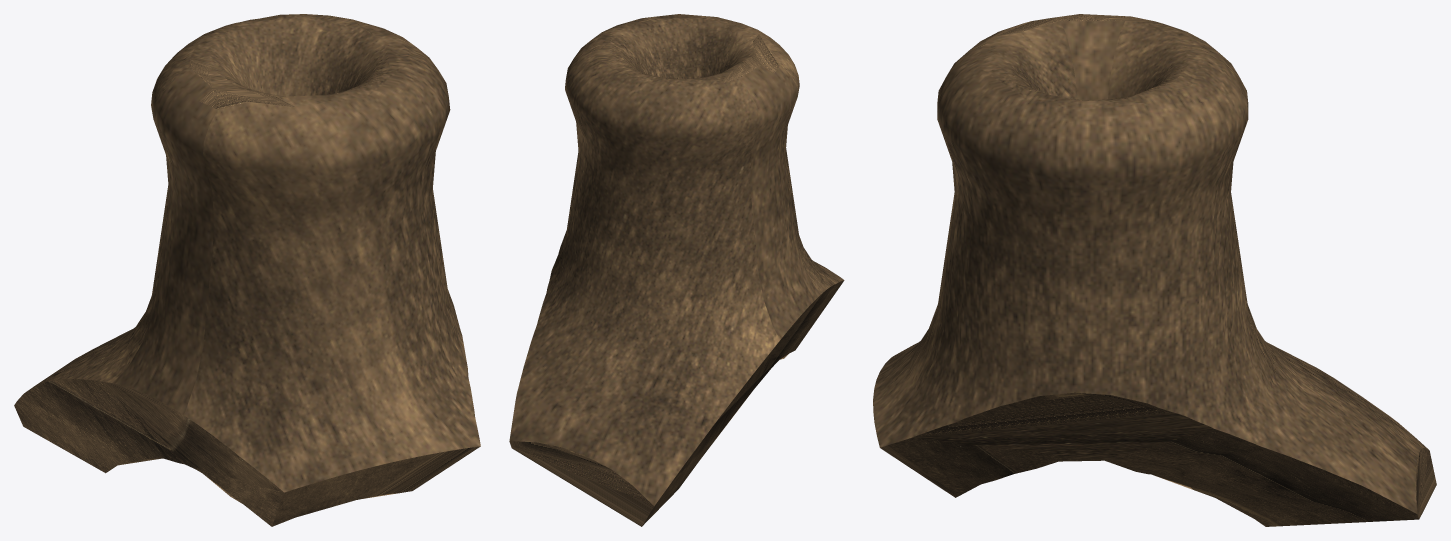
The picture shows the model from 3 angles, left to right: view 1: azimuth 30°, elevation 25°; view 2: azimuth 150°, elevation 25°; view 3: azimuth 270°, elevation 25°; orthographic projection. The views are drawn at different scales.
Parts seen in each view (by area): view 1: Cylinder_cell.001; view 2: Cylinder_cell.001; view 3: Cylinder_cell.001.
Part boxes in pixels (x1=…): Cylinder_cell.001: x1=14, y1=14, x2=480, y2=526; Cylinder_cell.001: x1=509, y1=14, x2=844, y2=526; Cylinder_cell.001: x1=873, y1=14, x2=1436, y2=526.
Bounding box in the file's own units: 0.5444 × 0.8343 × 0.8777.
1 material, 1 textured.
